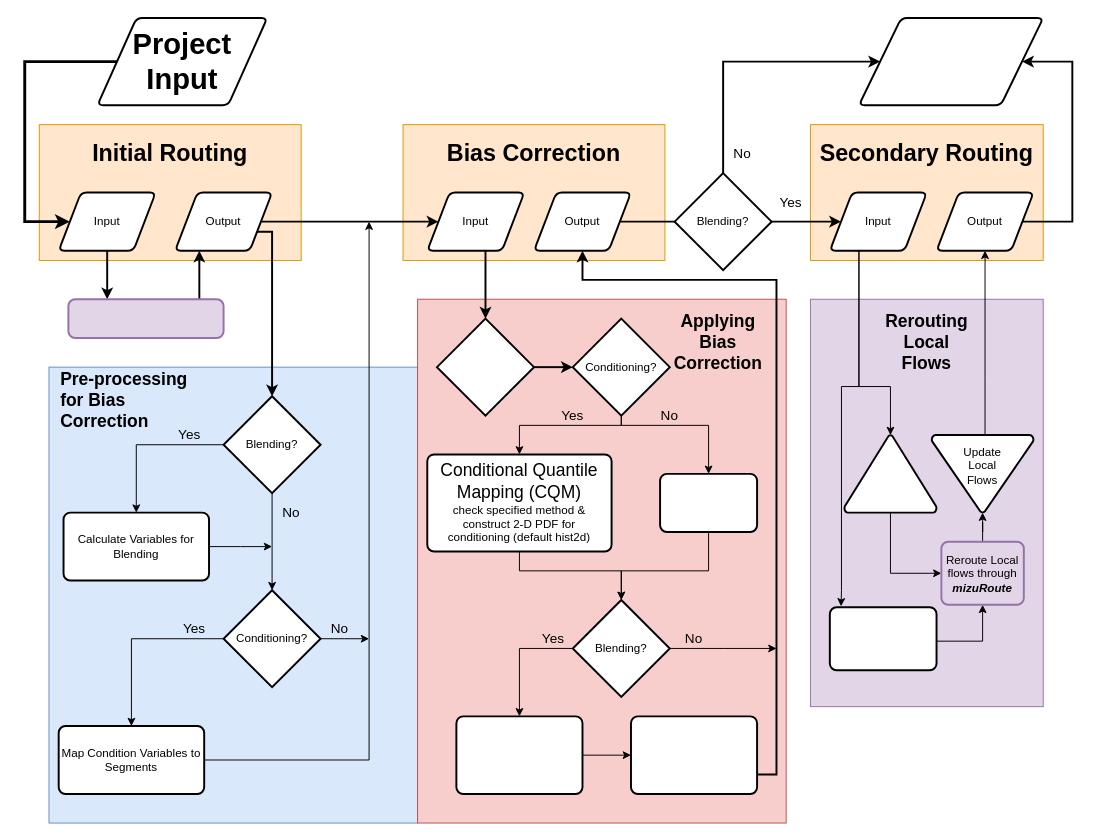
This 1098x840 diagram has some shape labels left out. Each missing label, with the box of its shape:
Apply Corrections to Local Flows: (630, 715, 758, 794)
Blend upstream/downstream corrections and multipliers: (455, 715, 583, 794)
bmorph Output: (857, 16, 1044, 106)
EDCDFm: (659, 472, 758, 533)
Route Runoff through mizuRoute: (67, 298, 224, 339)
Scale Topology for routing only flows: (828, 606, 937, 671)
Select appropriate workflow for BC: (436, 317, 534, 416)
Separate Local Flows: (843, 434, 937, 513)
